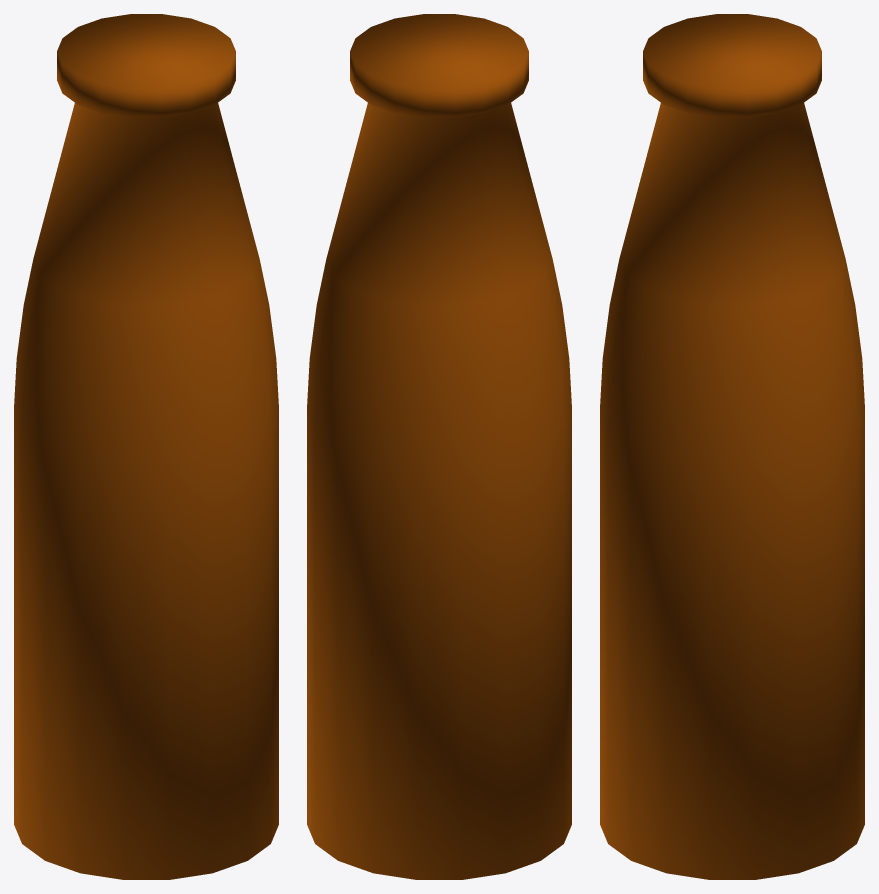
The model's file is Botol2.fbx.
3 renders of one model, left to right at view 1: azimuth 30°, elevation 25°; view 2: azimuth 150°, elevation 25°; view 3: azimuth 270°, elevation 25°, orthographic.
Parts seen in each view (by area): view 1: botol2; view 2: botol2; view 3: botol2.
Boxes of the visible parts, x1,y1,x2,y2 form: botol2: (14, 14, 278, 879); botol2: (307, 14, 571, 879); botol2: (600, 14, 864, 879).
Bounding box in the file's own units: 36.12 × 118 × 36.68.
